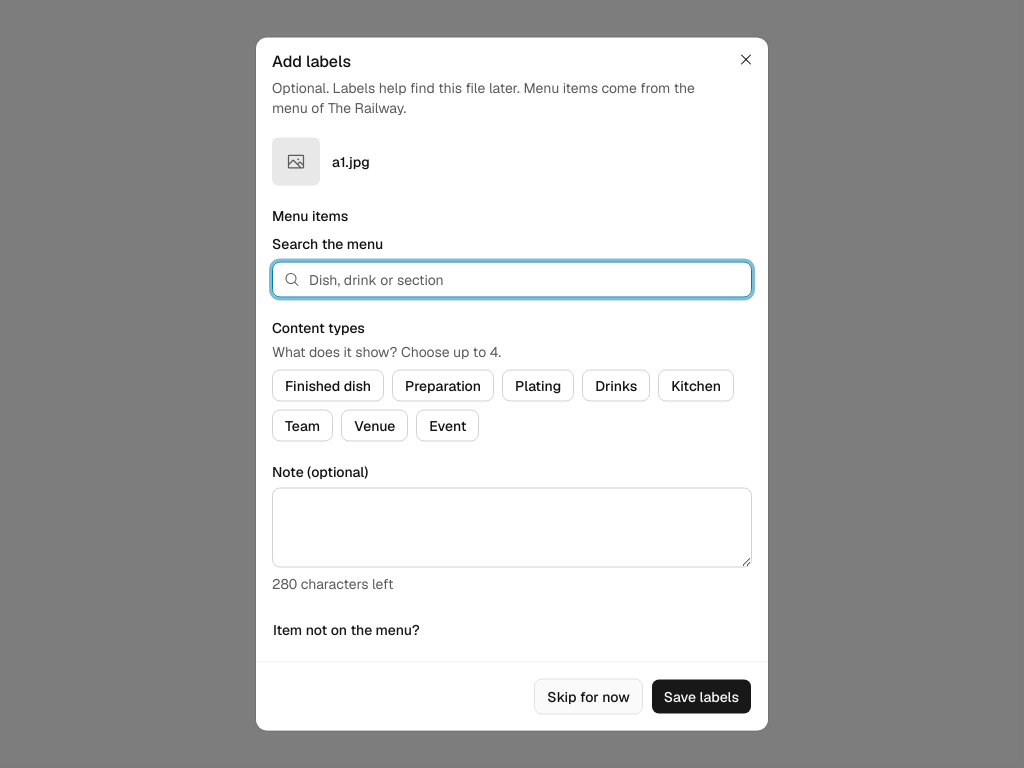
LabelEditorDialog: search and selection › counts remaining note characters
This screenshot has width=1024, height=768.
Type "Hello" into the text box labelled "Note (optional)".
click(512, 528); type("Hello")  # box [272,488,752,568]
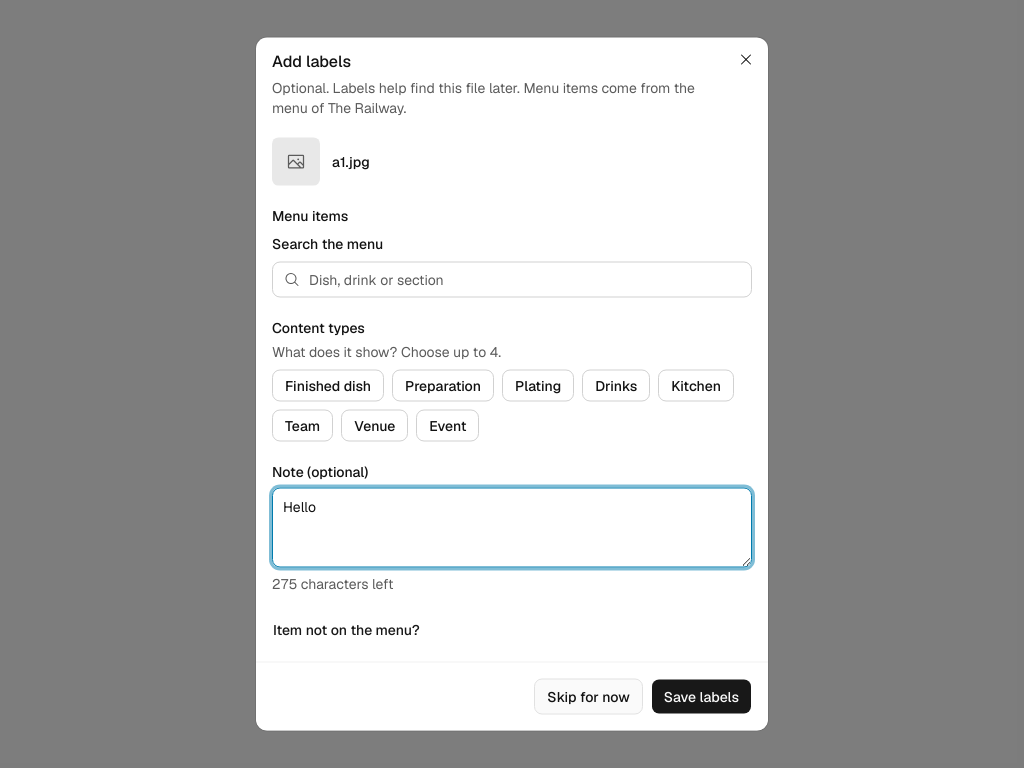
Result: the text "275 characters left" is shown at [272,574,394,594]
